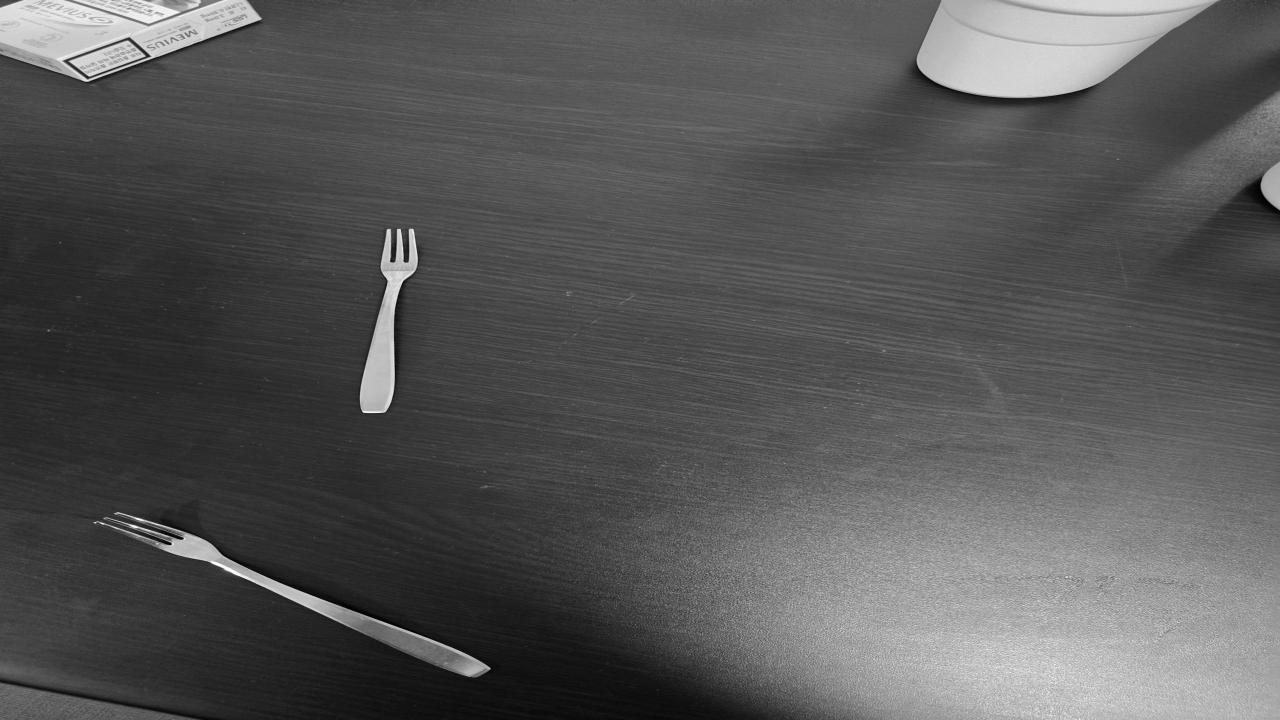fork: (94, 507, 501, 676), (351, 227, 420, 417)
